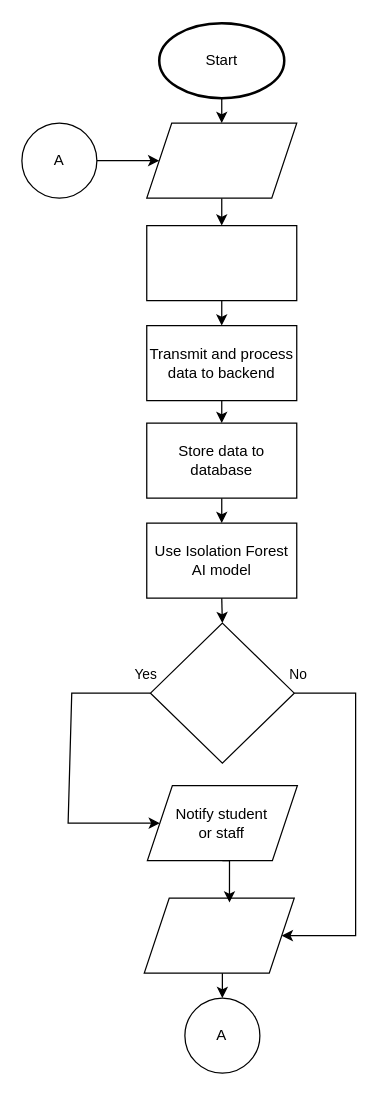
This 388x1095 diagram has some shape labels left out. The shapes that lost their labels are listed below. From the top down, each one's centre as x and y in pixels, then its label:
At point 221,160: "Read heart rate and motion".
At point 221,262: "Preprocess data on ESP32".
At point 221,692: "Abnormal stress/activity detected".
At point 218,935: "Update dashboard".
